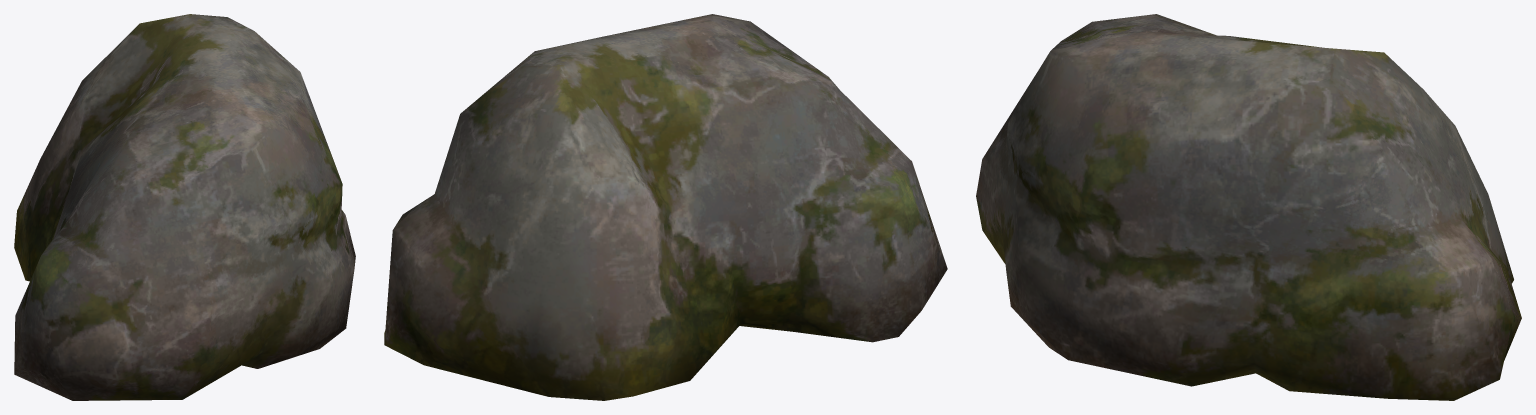
The model's file is Rock3.fbx.
3 renders of one model, left to right at view 1: azimuth 30°, elevation 25°; view 2: azimuth 150°, elevation 25°; view 3: azimuth 270°, elevation 25°, orthographic. The views are drawn at different scales.
Parts seen in each view (by area): view 1: SM_d_109_Rock_03a; view 2: SM_d_109_Rock_03a; view 3: SM_d_109_Rock_03a.
Boxes of the visible parts, x1=… form: SM_d_109_Rock_03a: x1=14, y1=14, x2=355, y2=400; SM_d_109_Rock_03a: x1=384, y1=14, x2=947, y2=400; SM_d_109_Rock_03a: x1=976, y1=14, x2=1521, y2=400.
Bounding box in the file's own units: 602 × 378 × 637.
